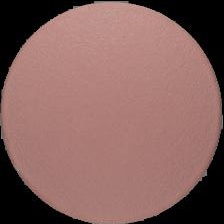43353-289: (0, 0, 224, 224)
